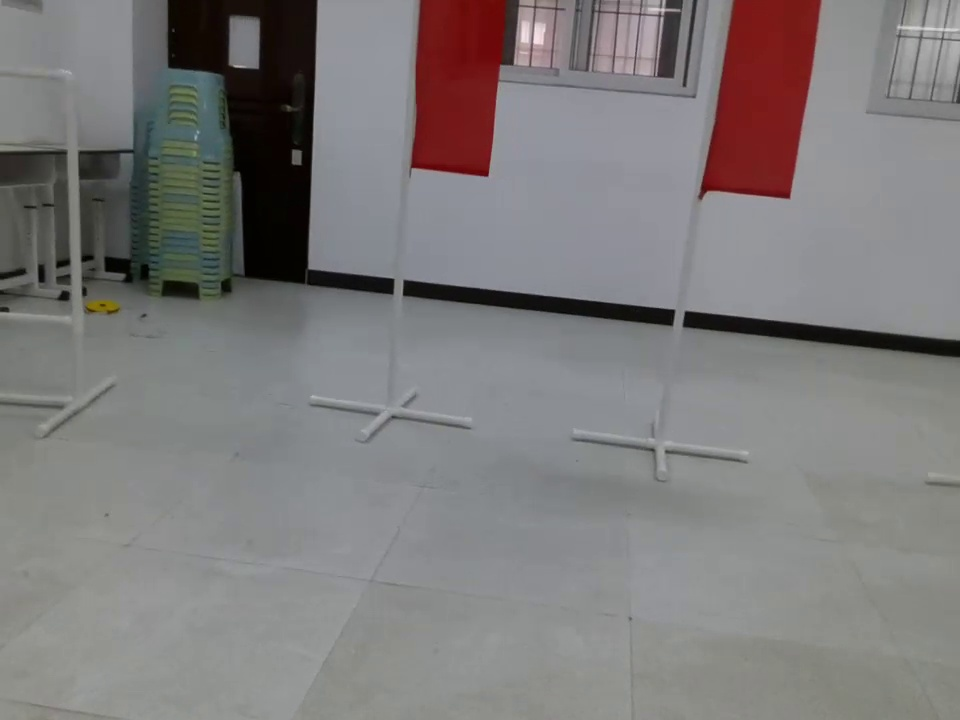qi: (688, 1, 832, 205), (416, 5, 515, 176)
